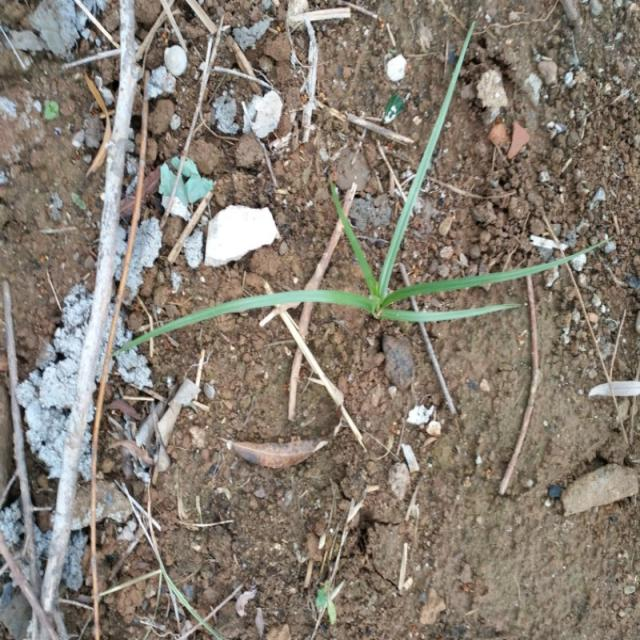sedge: (119, 80, 562, 372)
